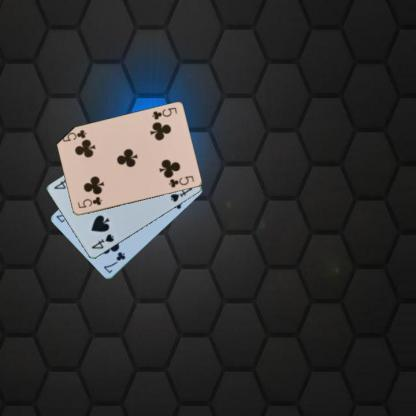4s: (89, 232, 115, 250)
5c: (75, 194, 103, 210), (150, 105, 178, 121)
7c: (102, 250, 127, 274)
